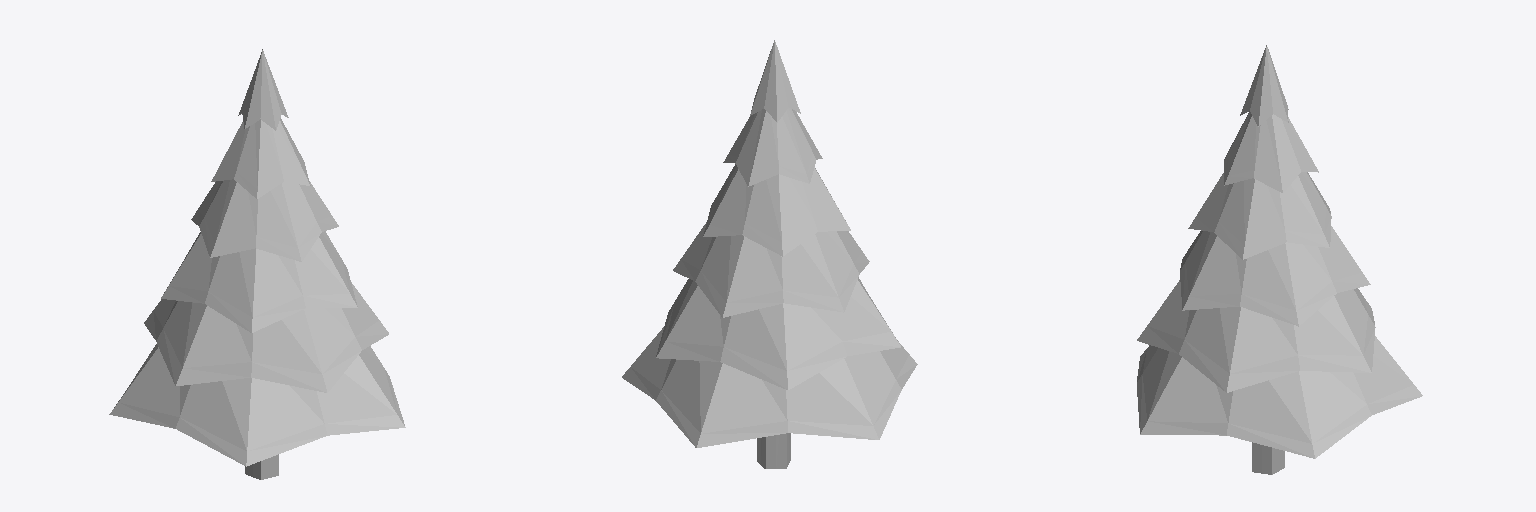
File: Pine_Tree_1_Winter.obj
The picture shows the model from 3 angles: view 1: azimuth 30°, elevation 25°; view 2: azimuth 150°, elevation 25°; view 3: azimuth 270°, elevation 25°; orthographic projection.
Visible parts, largest first — view 1: Pine_Tree_1_Winter_Cylinder.042; view 2: Pine_Tree_1_Winter_Cylinder.042; view 3: Pine_Tree_1_Winter_Cylinder.042.
Part boxes in pixels (x1,y1,x2,y2): Pine_Tree_1_Winter_Cylinder.042: (109, 49, 405, 479); Pine_Tree_1_Winter_Cylinder.042: (622, 40, 917, 468); Pine_Tree_1_Winter_Cylinder.042: (1137, 45, 1422, 474).
Size of the model in its own units: 3.92 by 6.14 by 3.77.